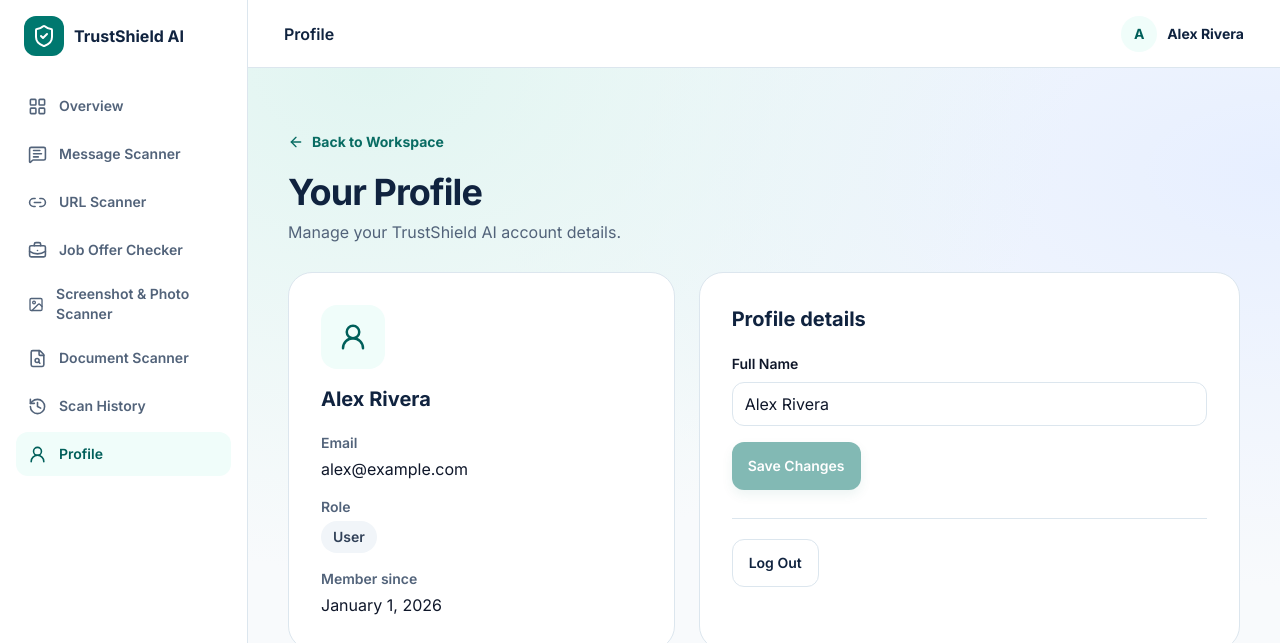
Test: TrustShield authentication UI › redirects to sign-in and explains that the session ended when profile save returns 401
Type " Jr" into the field labelled "Full Name" at (969, 404), box [732,382,1207,426]
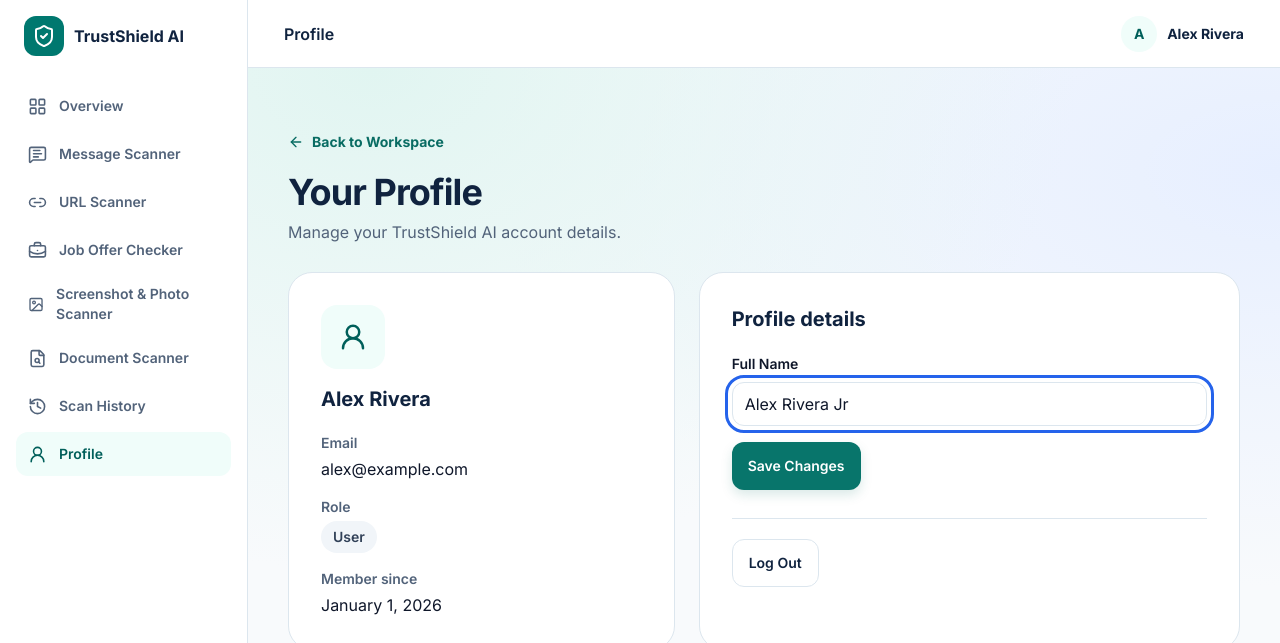
Click the button "Save Changes" at (796, 466), box [732,442,861,490]
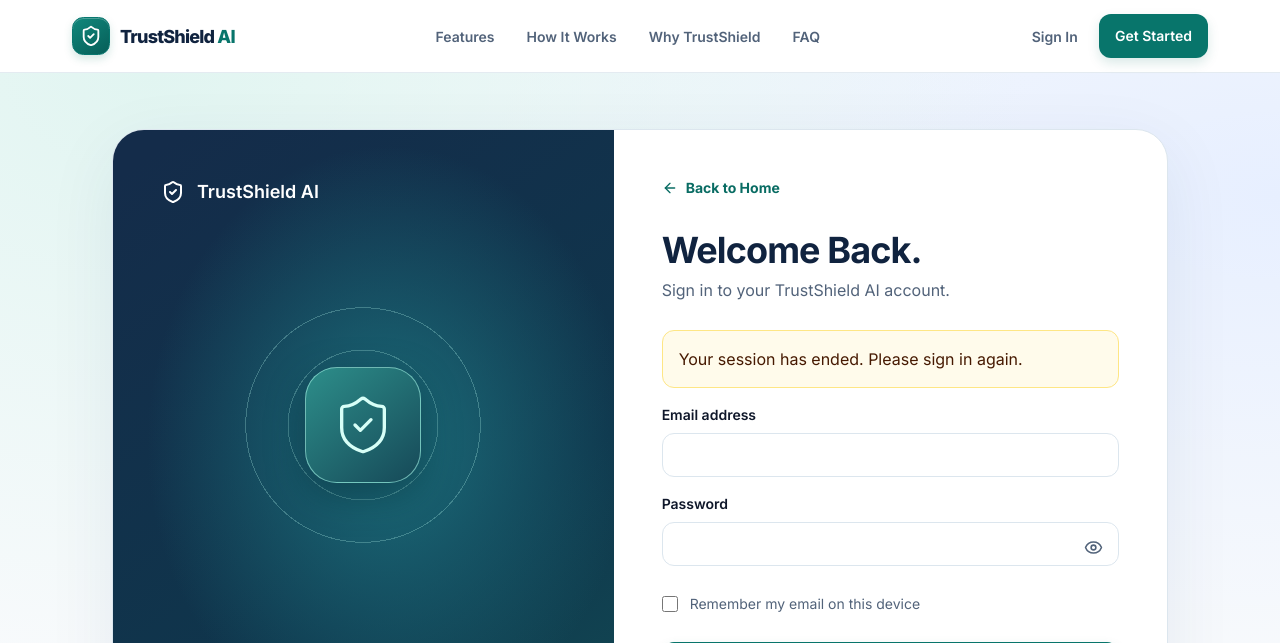
Expected: the text "Your session has ended. Please sign in again." is shown, [662,330,1119,388]
Expected: the text "alex@example.com" is gone
